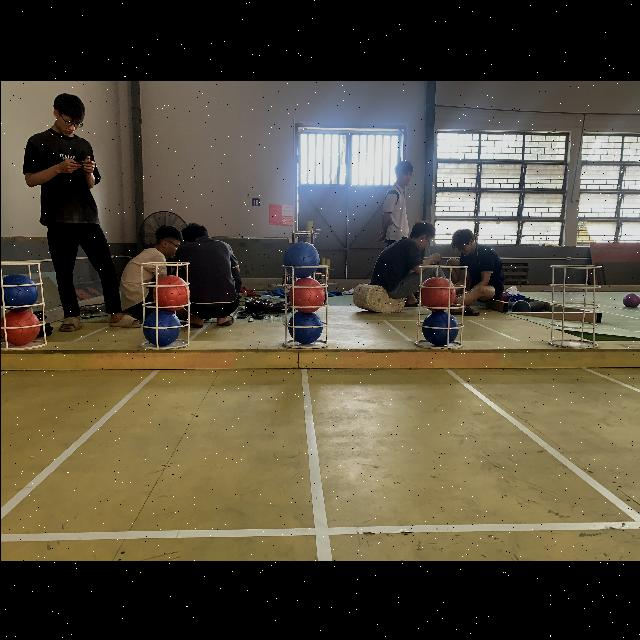B: (143, 310, 179, 346), (0, 273, 36, 307), (422, 312, 458, 346), (284, 241, 318, 275), (288, 311, 320, 344)
R: (419, 276, 457, 312), (288, 276, 326, 312), (1, 310, 40, 344), (152, 276, 188, 312)
